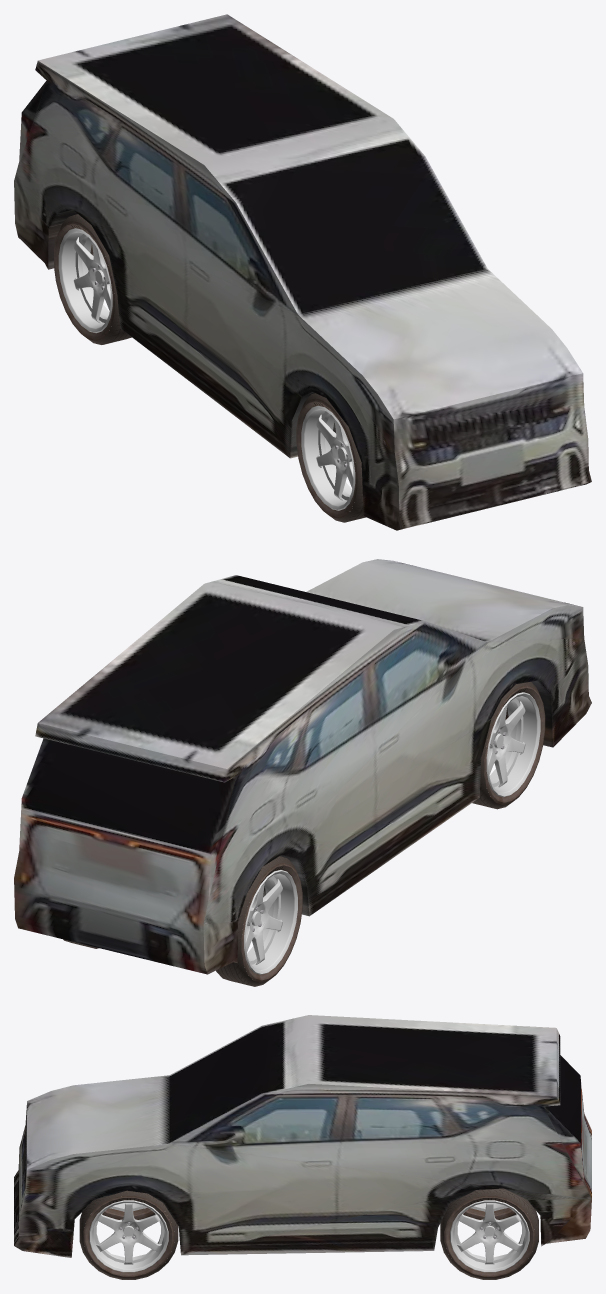
Rendered from seltos.glb.
3 renders of one model, top to bottom at view 1: azimuth 30°, elevation 25°; view 2: azimuth 150°, elevation 25°; view 3: azimuth 270°, elevation 25°, orthographic. The views are drawn at different scales.
Parts seen in each view (by area): view 1: Object_6, Object_8, Object_4, Object_10; view 2: Object_6, Object_8, Object_4, Object_10; view 3: Object_6, Object_8, Object_4, Object_10.
Part boxes in pixels (x1,y1,x2,y2): Object_6: [14, 14, 591, 530]; Object_8: [58, 228, 355, 510]; Object_4: [54, 221, 357, 518]; Object_10: [60, 214, 365, 522]; Object_6: [14, 559, 591, 974]; Object_8: [244, 692, 540, 974]; Object_4: [241, 685, 545, 982]; Object_10: [63, 681, 538, 986]; Object_6: [14, 1015, 591, 1257]; Object_8: [89, 1200, 529, 1272]; Object_4: [83, 1196, 534, 1277]; Object_10: [79, 1188, 538, 1279].
Bounding box in the file's own units: 0.2106 × 0.2757 × 0.7336.
5 materials, 4 textured.
